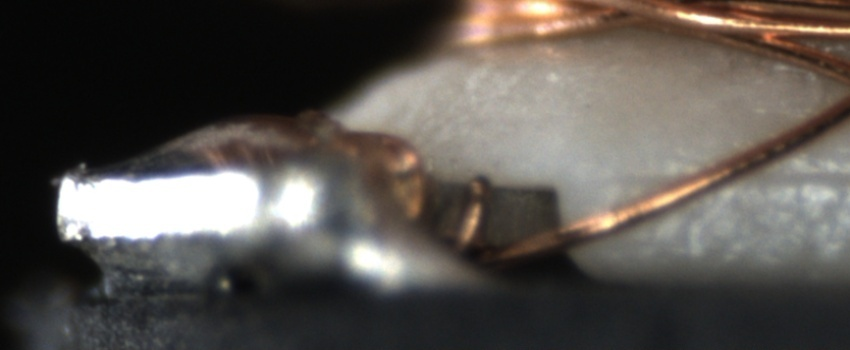DL: (634, 152, 849, 206)
TE: (330, 120, 495, 255)
